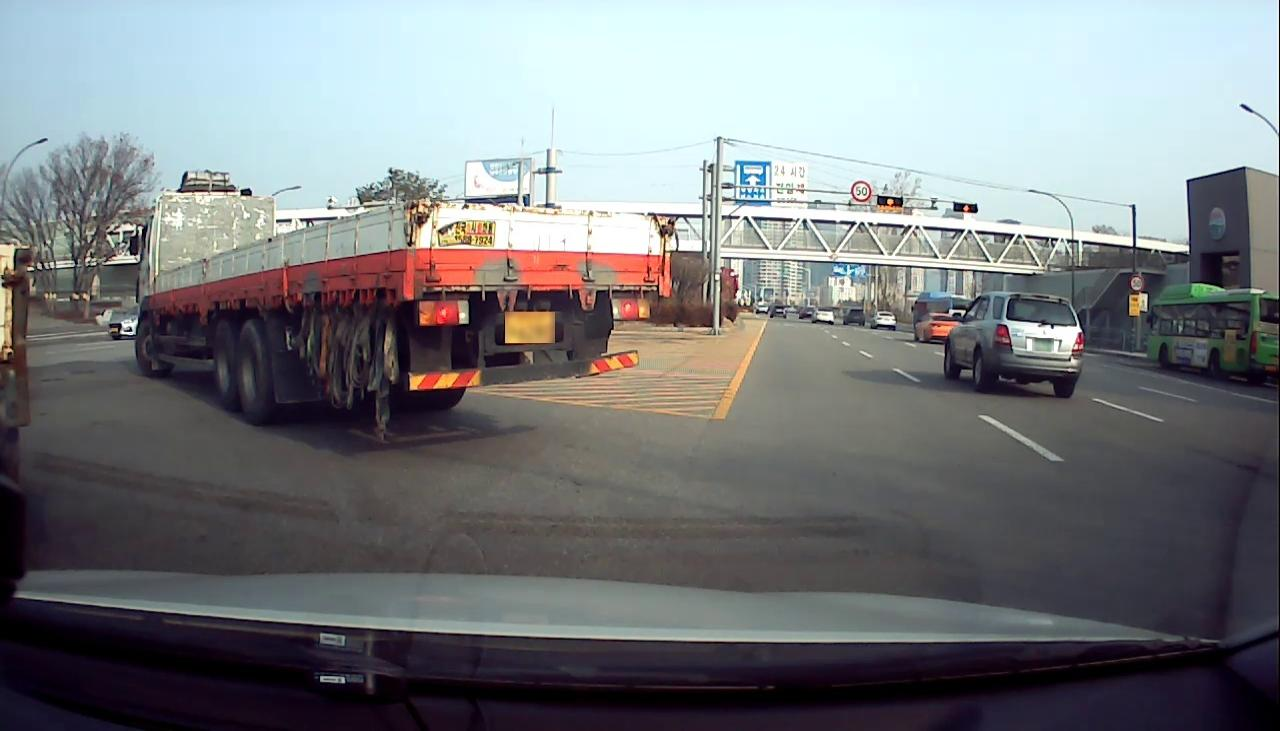Yellow Light: (885, 196, 895, 207), (962, 202, 970, 212)
